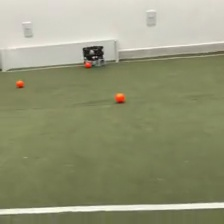ball: (114, 91, 125, 103), (15, 78, 25, 88), (84, 60, 91, 68)
goal: (1, 37, 119, 73)
robot: (81, 44, 106, 69)
